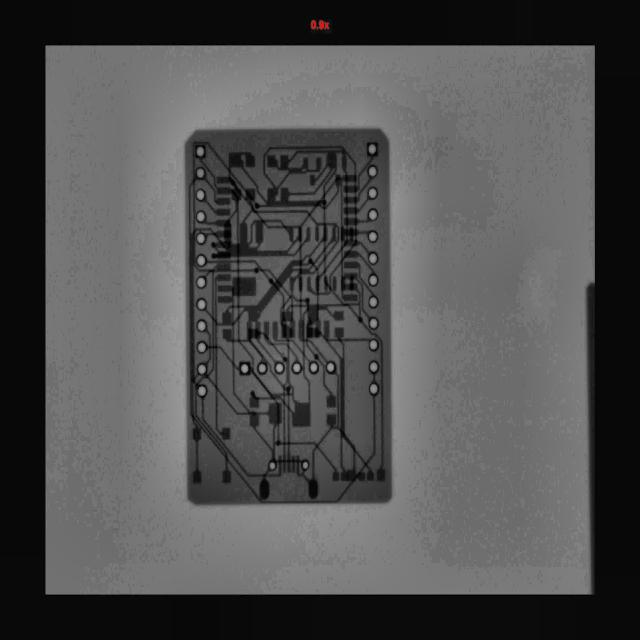Both: (367, 382, 381, 397), (239, 361, 251, 376), (368, 317, 379, 330), (196, 363, 207, 376), (196, 254, 207, 267), (195, 232, 206, 245), (367, 142, 377, 156), (368, 339, 379, 351), (369, 361, 380, 373), (291, 362, 302, 374), (257, 362, 267, 375), (195, 145, 205, 158), (368, 209, 378, 221), (368, 296, 378, 308), (275, 362, 285, 374), (196, 189, 206, 201), (197, 342, 207, 353), (196, 233, 206, 244), (198, 385, 207, 397), (197, 320, 206, 332), (197, 299, 206, 311), (196, 168, 205, 180), (197, 276, 205, 289), (197, 210, 205, 223), (368, 166, 377, 177), (368, 231, 377, 242), (369, 253, 378, 264), (369, 275, 378, 286), (197, 320, 206, 331), (327, 362, 335, 374), (369, 188, 377, 199), (310, 362, 318, 373), (269, 460, 277, 471), (302, 460, 310, 471), (198, 255, 205, 266), (284, 385, 293, 393), (198, 343, 206, 352), (197, 168, 204, 178), (197, 190, 204, 200), (197, 212, 204, 222), (198, 300, 205, 310), (198, 278, 205, 287), (241, 364, 248, 373), (199, 365, 205, 375), (254, 202, 261, 209), (253, 267, 260, 274), (249, 390, 256, 397), (282, 356, 288, 363), (313, 354, 319, 360), (269, 278, 274, 284), (308, 259, 313, 264), (276, 441, 281, 446), (323, 200, 327, 205), (305, 298, 309, 303)
L1: (276, 205, 428, 472), (191, 142, 257, 470), (209, 188, 286, 445), (230, 177, 342, 320), (185, 398, 283, 493), (215, 286, 256, 420), (255, 264, 303, 321), (321, 422, 367, 471), (356, 396, 381, 481), (304, 425, 332, 481), (272, 330, 315, 365), (212, 277, 221, 435), (263, 331, 304, 364), (249, 425, 278, 461), (298, 333, 330, 365), (353, 277, 374, 323), (196, 158, 222, 190), (280, 362, 289, 454), (353, 263, 376, 299), (353, 154, 374, 191), (317, 358, 333, 398), (272, 281, 287, 321), (245, 338, 267, 365), (311, 262, 321, 320), (199, 179, 222, 204), (256, 337, 277, 364), (355, 252, 376, 276), (192, 374, 199, 428), (267, 402, 282, 425), (324, 336, 372, 343), (356, 178, 372, 199), (341, 180, 343, 295), (205, 329, 211, 365), (260, 479, 270, 499), (204, 200, 218, 214), (287, 392, 290, 453), (356, 199, 369, 213), (296, 471, 311, 483), (309, 480, 318, 499), (249, 391, 259, 408), (336, 373, 339, 427), (356, 289, 361, 319), (358, 241, 369, 254), (222, 470, 232, 484), (212, 241, 231, 248), (305, 303, 312, 321), (221, 427, 231, 439), (343, 283, 358, 291), (342, 295, 359, 302), (193, 428, 202, 441), (212, 252, 231, 258), (216, 230, 232, 237), (344, 217, 358, 225), (344, 250, 358, 258), (250, 415, 259, 427), (290, 320, 296, 338), (217, 274, 232, 281), (216, 177, 231, 184), (343, 185, 358, 192), (343, 196, 358, 203), (343, 207, 358, 214), (344, 239, 359, 246), (344, 261, 359, 268), (193, 471, 201, 484), (255, 322, 261, 339), (272, 321, 278, 338), (327, 396, 336, 407), (327, 414, 336, 425), (218, 285, 232, 292), (218, 296, 232, 303), (217, 197, 231, 204), (217, 187, 231, 194), (343, 174, 357, 181), (348, 469, 356, 481), (216, 220, 232, 226), (299, 319, 304, 338), (345, 272, 358, 279), (264, 321, 269, 339), (316, 320, 321, 338), (282, 320, 287, 338), (216, 209, 231, 215), (343, 229, 358, 235), (377, 470, 385, 481), (247, 322, 252, 339), (307, 321, 312, 338), (204, 220, 216, 227), (217, 263, 231, 269), (324, 320, 329, 336), (287, 453, 291, 473), (278, 454, 282, 473), (296, 455, 300, 473), (196, 440, 198, 471), (283, 453, 286, 473), (292, 454, 295, 473), (358, 230, 367, 234), (358, 220, 367, 223), (301, 470, 306, 475), (205, 233, 215, 235)
L2: (93, 177, 363, 544), (263, 145, 358, 296), (233, 177, 347, 289), (307, 170, 370, 284), (239, 251, 308, 326), (280, 426, 339, 491), (197, 374, 268, 428), (288, 156, 334, 207), (224, 222, 288, 257), (292, 231, 334, 279), (242, 211, 290, 246), (273, 337, 297, 405), (340, 435, 373, 476), (207, 260, 270, 280), (239, 166, 270, 204), (287, 142, 341, 163), (266, 187, 322, 207), (192, 222, 231, 250), (208, 341, 239, 376), (298, 339, 312, 403), (274, 287, 306, 313), (326, 297, 362, 320), (260, 331, 284, 359), (229, 152, 255, 177), (319, 166, 337, 200), (302, 236, 324, 263), (205, 265, 253, 277), (320, 186, 342, 211), (286, 298, 310, 320), (320, 333, 341, 358), (265, 361, 284, 388), (286, 238, 309, 260), (222, 200, 242, 224), (336, 435, 348, 474), (292, 403, 311, 427), (232, 277, 256, 296), (202, 310, 224, 329), (340, 358, 345, 436), (231, 308, 246, 326), (286, 237, 300, 253), (280, 398, 294, 414), (277, 172, 290, 189), (225, 302, 245, 313), (304, 337, 315, 356), (325, 153, 337, 170), (281, 321, 293, 338), (315, 165, 327, 181), (256, 220, 263, 243), (308, 310, 319, 324), (338, 337, 345, 358), (273, 424, 277, 460), (252, 394, 270, 402), (231, 188, 242, 201), (245, 188, 256, 201), (280, 311, 293, 322), (301, 167, 320, 174), (267, 155, 278, 167), (248, 329, 261, 339), (223, 312, 232, 326), (341, 150, 347, 171), (289, 165, 303, 174), (222, 328, 232, 340), (280, 155, 289, 168), (308, 304, 327, 310), (334, 327, 344, 337), (356, 472, 366, 481), (335, 311, 344, 321), (275, 460, 303, 463), (262, 469, 270, 479), (349, 226, 354, 242), (276, 166, 289, 172), (270, 393, 281, 400), (306, 226, 311, 241), (227, 339, 251, 342), (326, 309, 335, 317), (350, 275, 354, 292), (332, 225, 336, 242), (293, 272, 301, 280), (298, 225, 302, 241), (303, 157, 308, 169), (324, 276, 328, 291), (289, 227, 293, 242), (315, 226, 319, 241), (323, 226, 327, 241), (341, 226, 345, 241), (255, 242, 262, 250), (367, 473, 374, 481), (341, 473, 348, 481), (307, 277, 311, 291), (316, 157, 321, 168), (310, 175, 315, 186), (290, 277, 294, 290), (341, 276, 344, 292), (333, 276, 336, 291), (333, 474, 339, 481), (299, 277, 302, 291), (316, 276, 319, 290), (373, 374, 376, 383), (194, 382, 199, 387), (303, 263, 309, 266), (259, 205, 266, 207), (300, 167, 304, 170)
